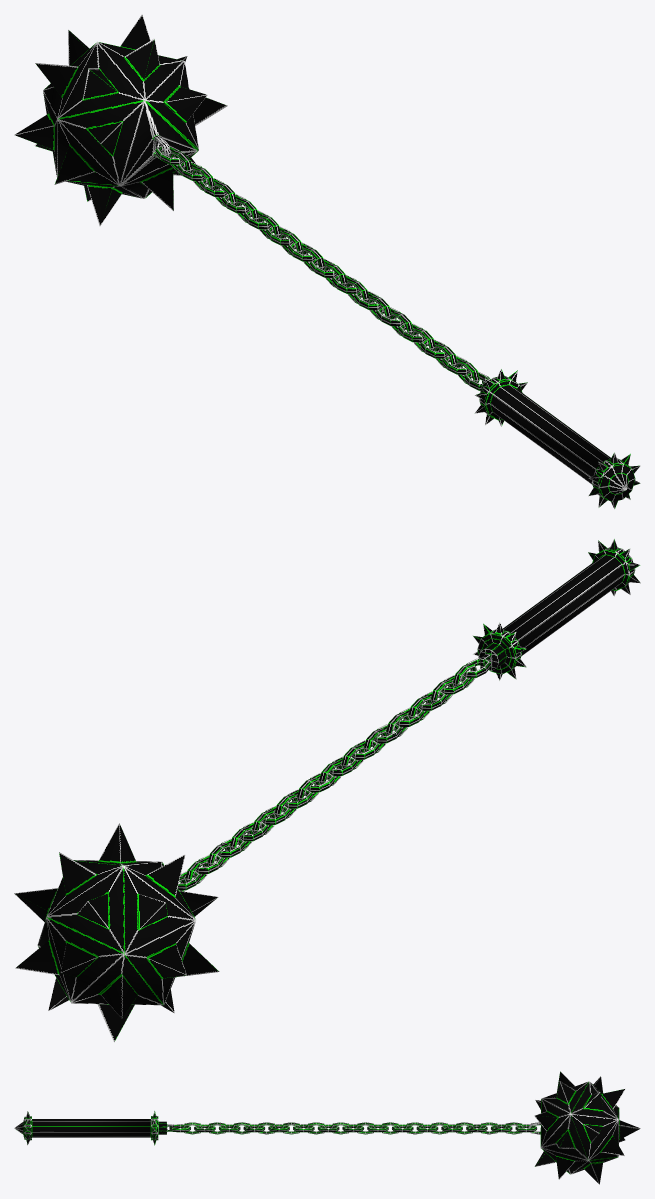
File: Mangual.obj
3 renders of one model, top to bottom at view 1: azimuth 30°, elevation 25°; view 2: azimuth 150°, elevation 25°; view 3: azimuth 270°, elevation 25°, orthographic. The views are drawn at different scales.
Parts seen in each view (by area): view 1: GeoSphere001, Object001; view 2: GeoSphere001, Object001; view 3: GeoSphere001, Object001.
Part boxes in pixels (left/top/right/bottom): GeoSphere001: left=14, top=14, right=227, bottom=226; Object001: left=474, top=369, right=640, bottom=509; GeoSphere001: left=14, top=823, right=219, bottom=1042; Object001: left=473, top=538, right=640, bottom=680; GeoSphere001: left=527, top=1071, right=640, bottom=1184; Object001: left=14, top=1111, right=174, bottom=1145.
Bounding box in the file's own units: 1.31 × 1.3 × 7.17.
1 material, 1 textured.
